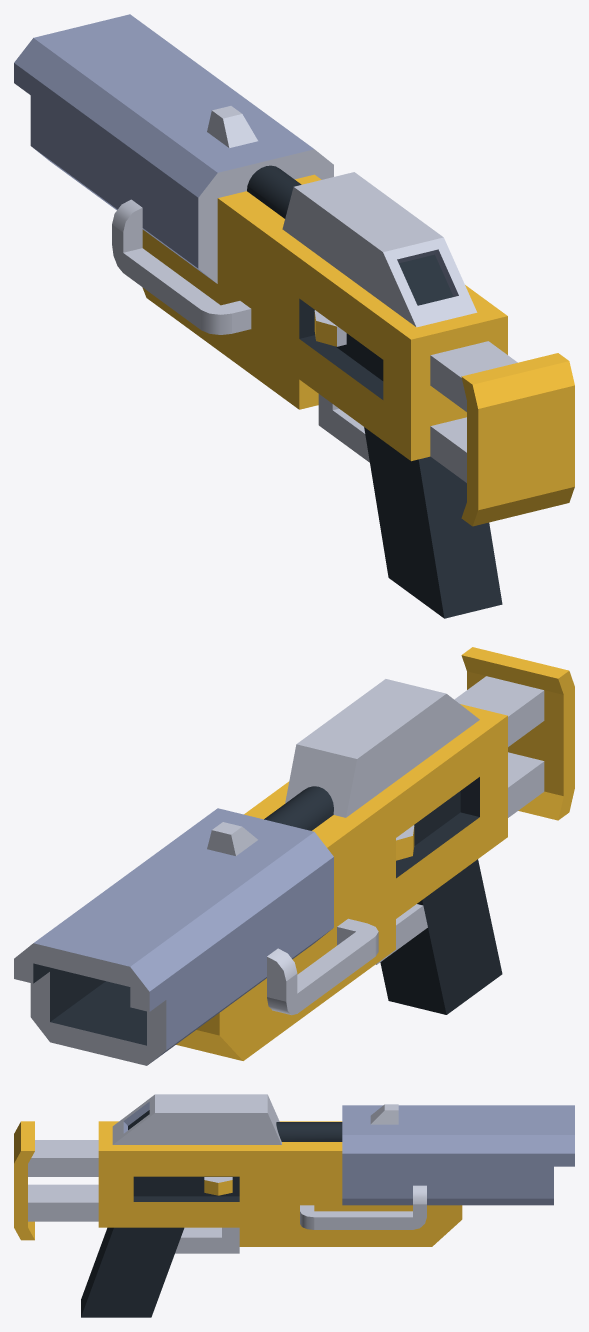
Rendered from Blaster.obj.
3 renders of one model, top to bottom at view 1: azimuth 30°, elevation 25°; view 2: azimuth 150°, elevation 25°; view 3: azimuth 270°, elevation 25°, orthographic. The views are drawn at different scales.
Parts seen in each view (by area): view 1: Blaster; view 2: Blaster; view 3: Blaster.
Part boxes in pixels (box(x1,y1,x2,y2)): Blaster: box(14, 14, 574, 618); Blaster: box(14, 647, 574, 1065); Blaster: box(14, 1094, 574, 1317).
Bounding box in the file's own units: 0.18 × 0.32 × 0.7959.
